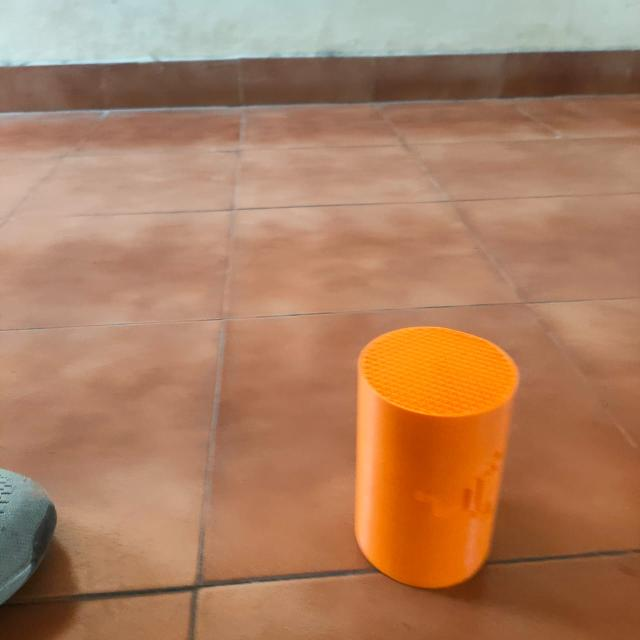Cylinder: (353, 325, 519, 589)
